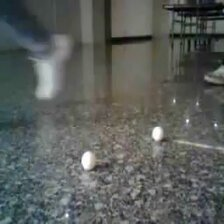w: (80, 150, 97, 170), (151, 125, 166, 141)
